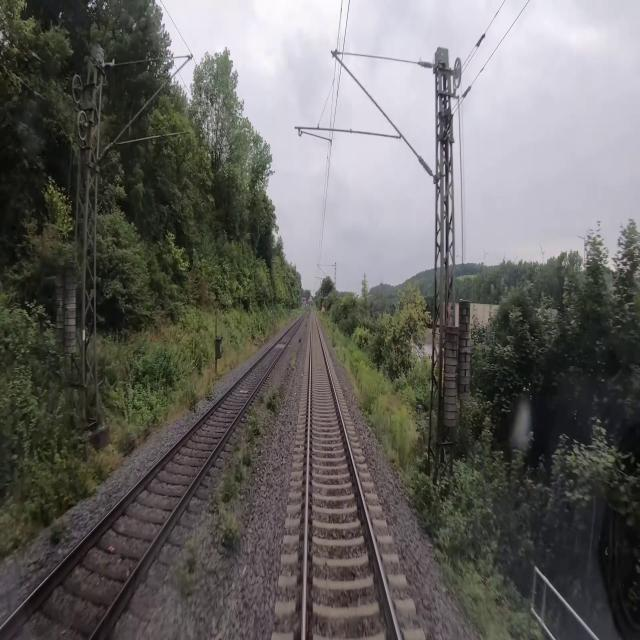Plant: (209, 410, 260, 552), (170, 535, 202, 599), (260, 384, 281, 415), (51, 517, 71, 539), (189, 404, 200, 413), (206, 392, 215, 403), (290, 351, 296, 367)
